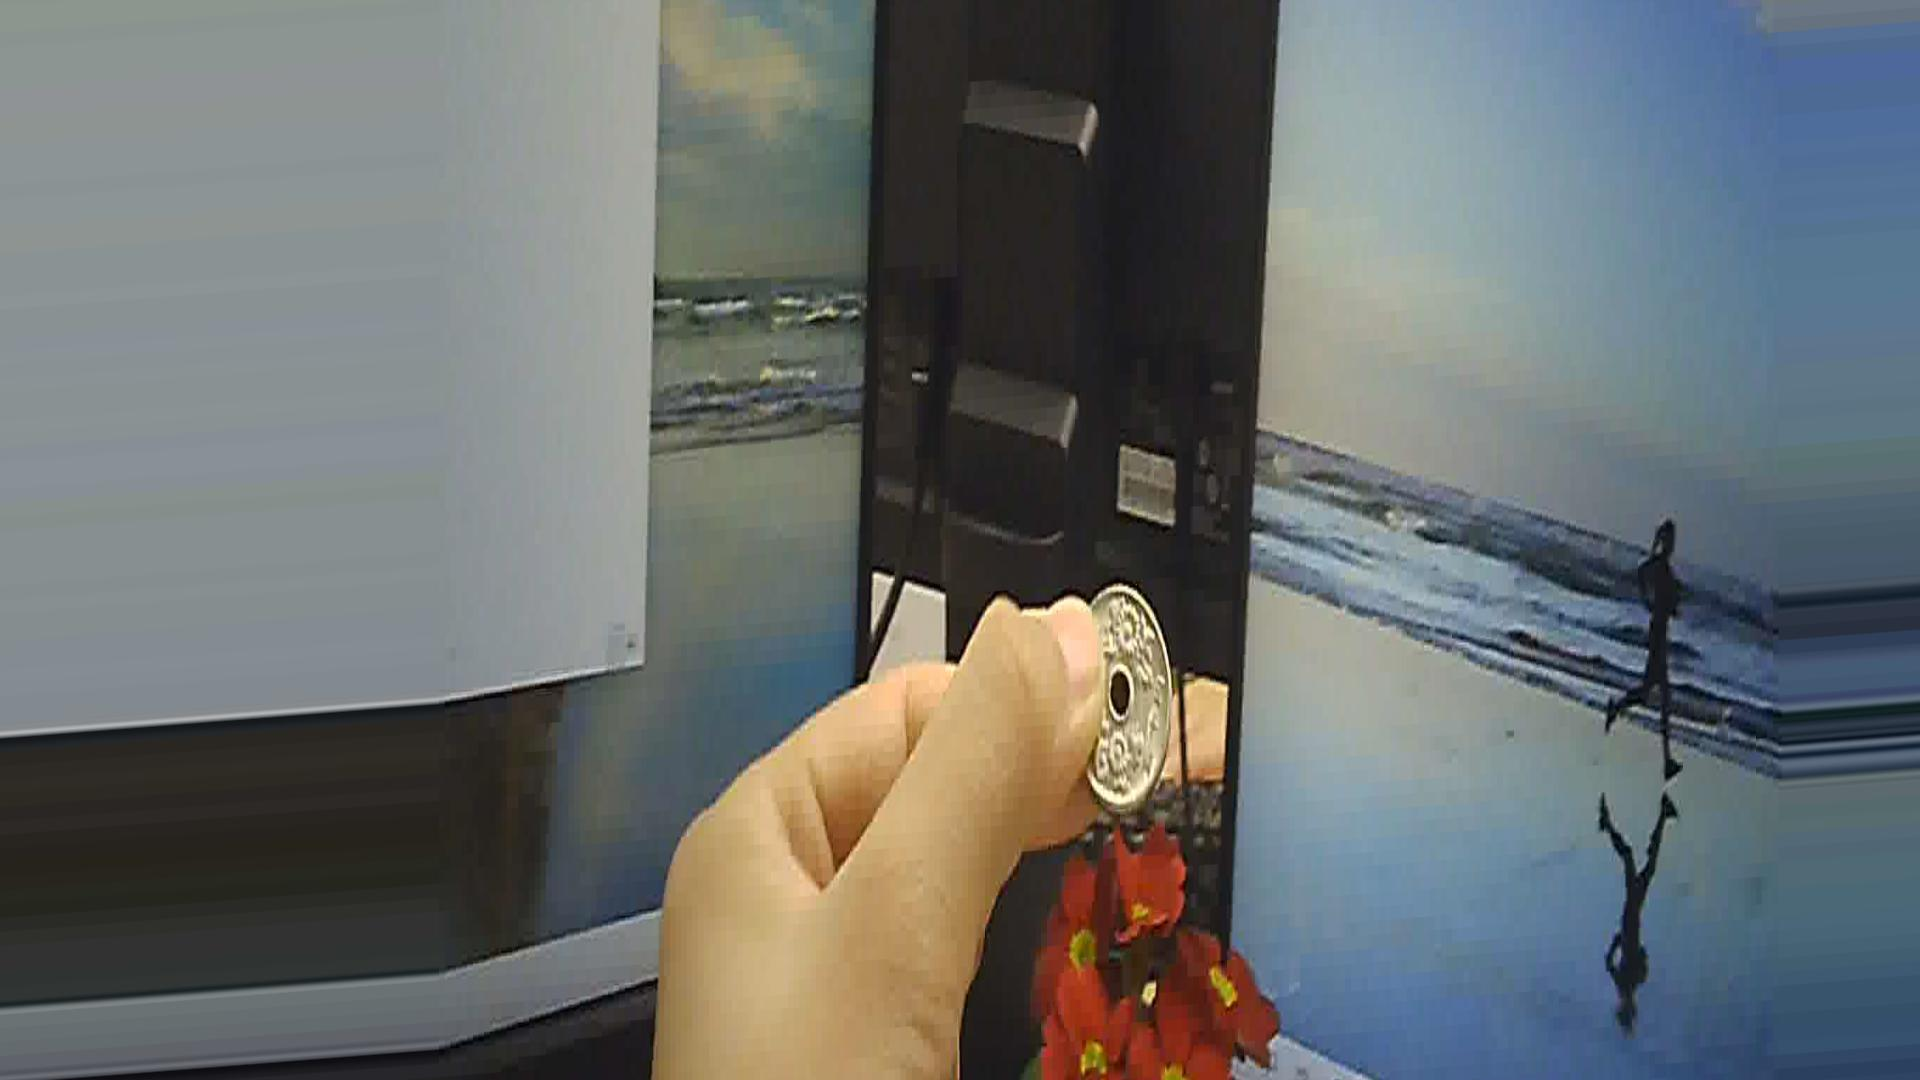50 Yen: (1062, 582, 1200, 822)
